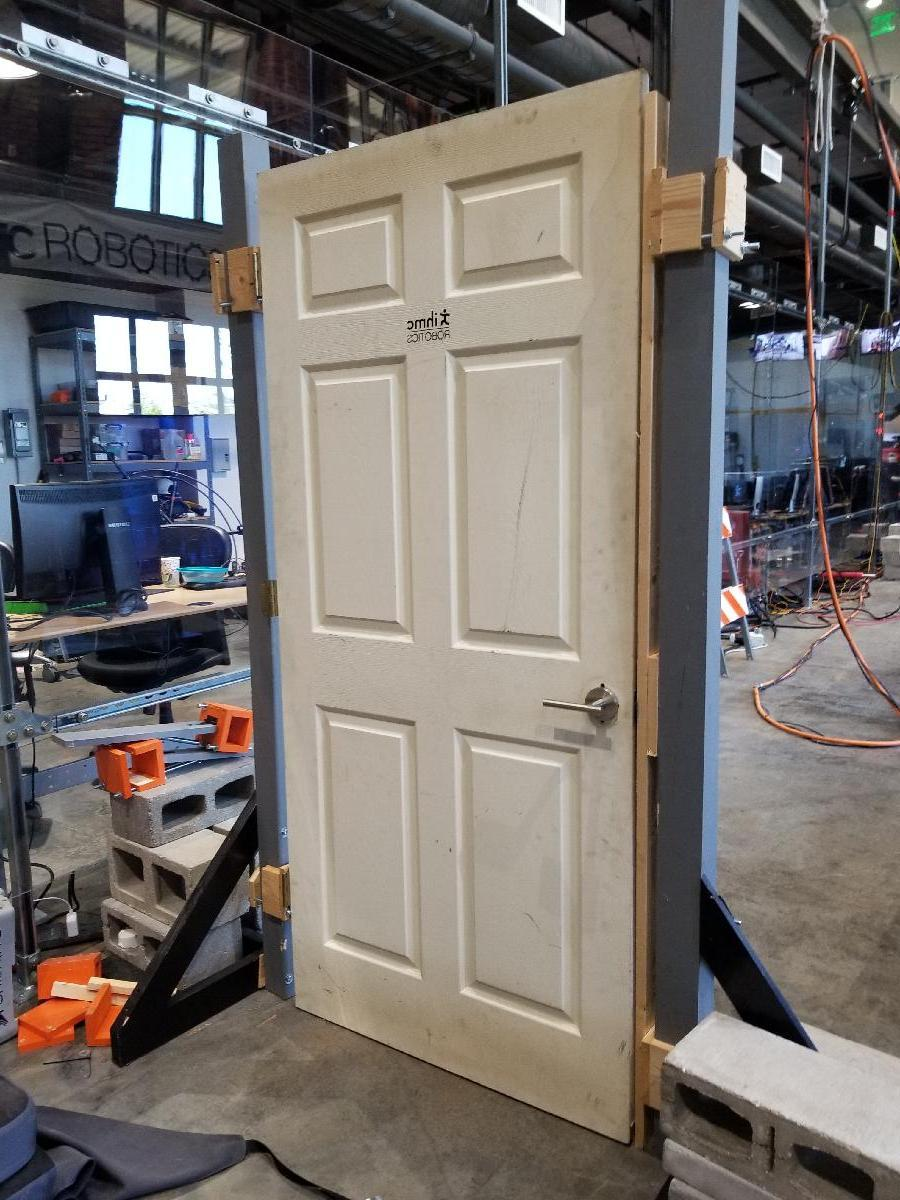door: (289, 61, 656, 1087)
handle: (538, 676, 622, 734)
